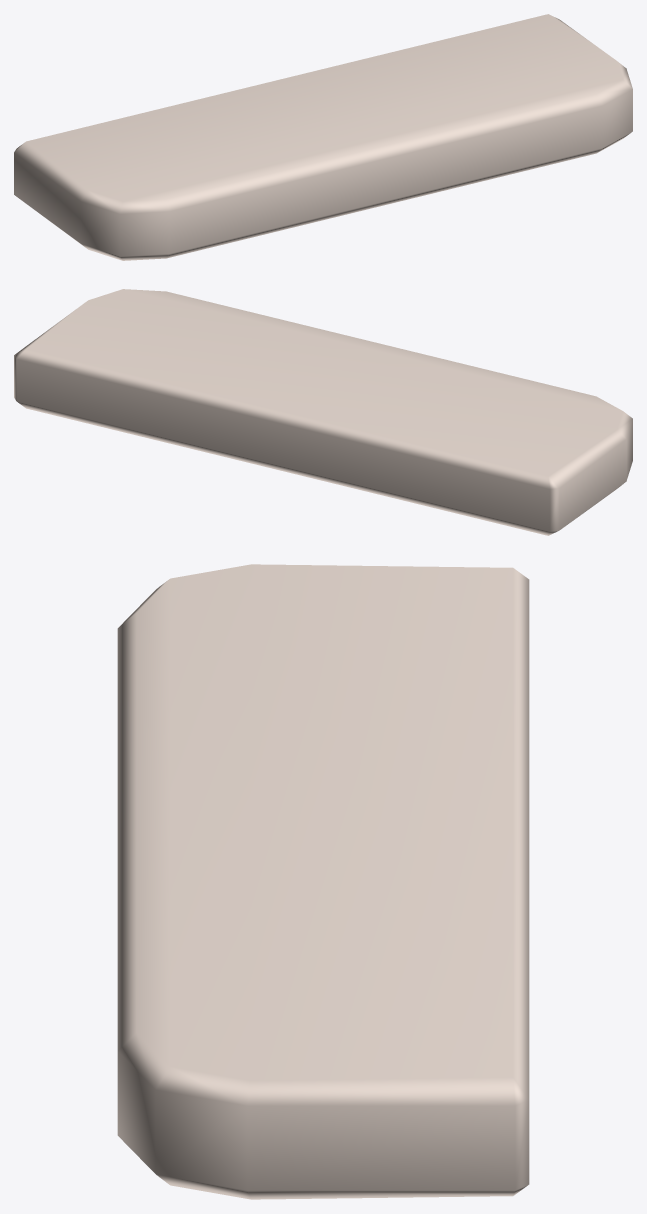
Rendered from Shelf_1.glb.
3 renders of one model, top to bottom at view 1: azimuth 30°, elevation 25°; view 2: azimuth 150°, elevation 25°; view 3: azimuth 270°, elevation 25°, orthographic. The views are drawn at different scales.
Parts seen in each view (by area): view 1: Shelf_1; view 2: Shelf_1; view 3: Shelf_1.
Part boxes in pixels (<box>): Shelf_1: <box>14,14,632,260</box>; Shelf_1: <box>14,289,632,535</box>; Shelf_1: <box>117,564,529,1199</box>.
Size of the model in its own units: 0.8959 by 0.0932 by 0.2926.
Materials: 1 (1 with a texture image).
